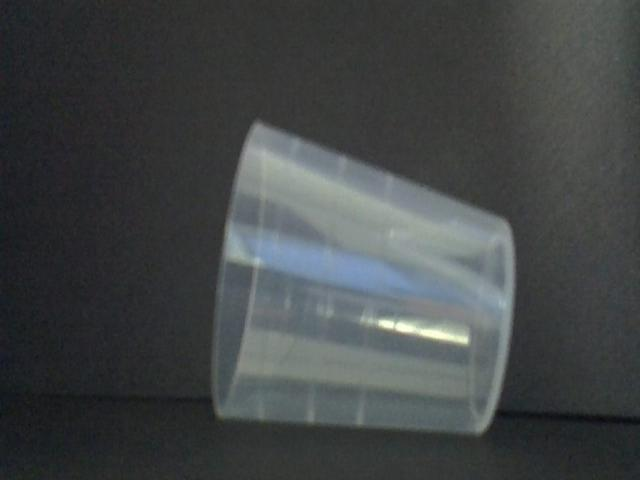cup: (203, 117, 522, 436)
